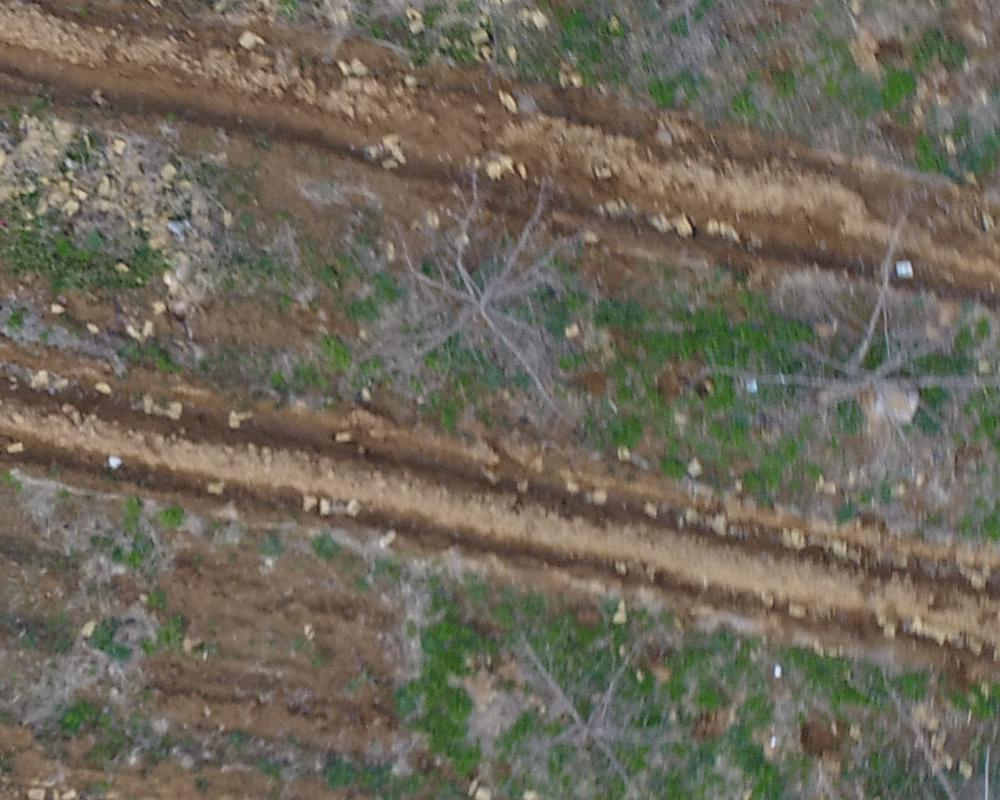apple: (700, 208, 990, 450), (348, 164, 591, 404), (474, 616, 711, 790)
